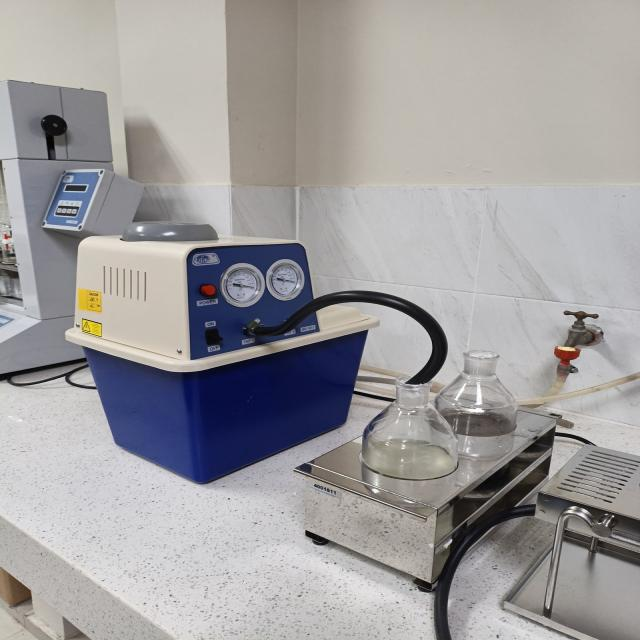Bomba de Vacio por Recirculacion de Agua: (67, 222, 547, 566), (66, 223, 446, 482), (296, 380, 555, 590)
